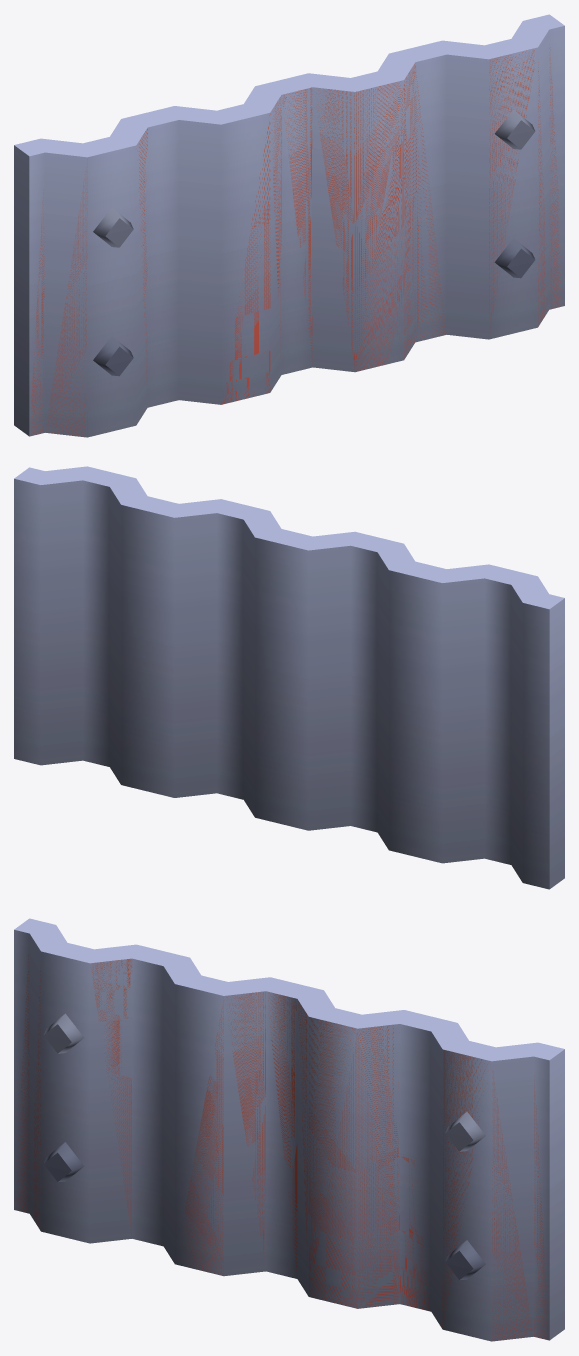
The model's file is metal-panel-screws-half.glb.
The picture shows the model from 3 angles, top to bottom: view 1: azimuth 30°, elevation 25°; view 2: azimuth 150°, elevation 25°; view 3: azimuth 330°, elevation 25°; orthographic projection.
Parts seen in each view (by area): view 1: metal-panel-screws-half; view 2: metal-panel-screws-half; view 3: metal-panel-screws-half.
Boxes of the visible parts, <box> form: metal-panel-screws-half: <box>14,14,564,437</box>; metal-panel-screws-half: <box>14,466,564,889</box>; metal-panel-screws-half: <box>14,918,564,1341</box>.
Bounding box in the file's own units: 0.5 × 0.25 × 0.0625.
Materials: 1 (1 with a texture image).
